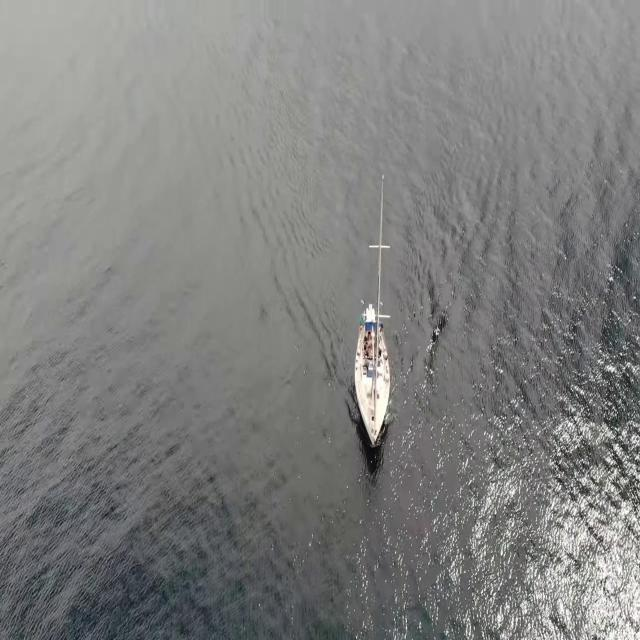sailboat: (354, 304, 396, 448)
